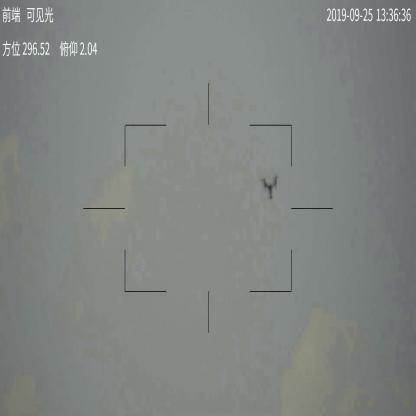uav: (260, 170, 278, 204)
